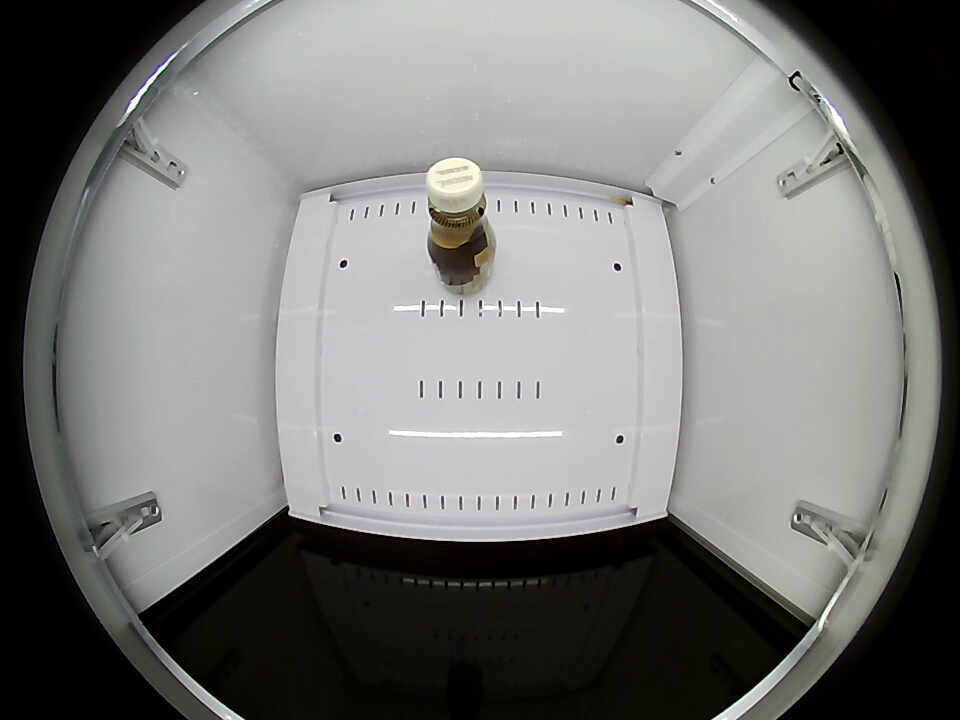kafei: (425, 157, 495, 260)
